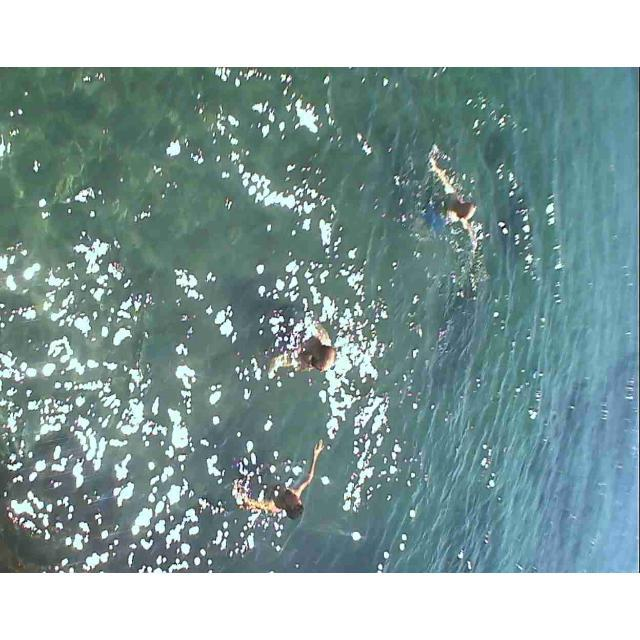human: (240, 433, 316, 526), (432, 151, 487, 263), (287, 295, 339, 381)
